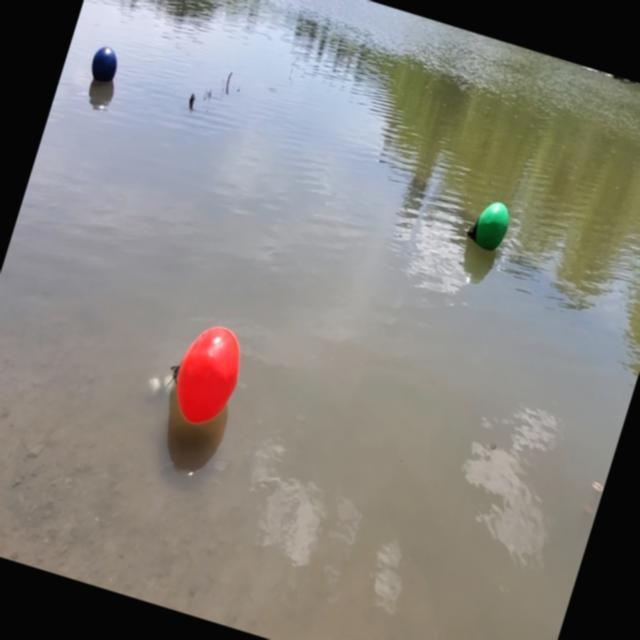buoy: (150, 311, 252, 437), (457, 192, 517, 255), (82, 40, 124, 94)
